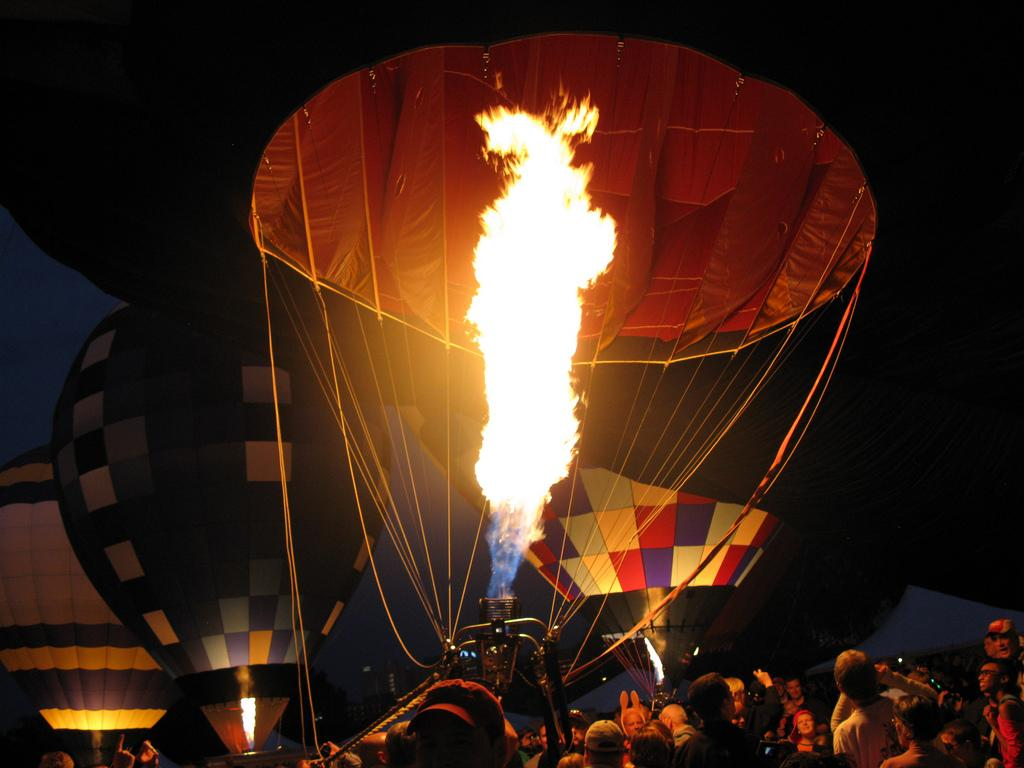fire: (486, 192, 570, 522)
